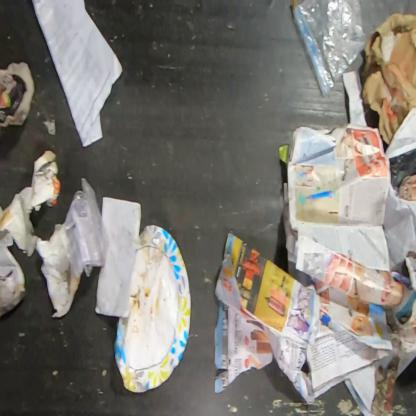soft_plastic: (292, 0, 367, 97), (64, 178, 112, 283)
